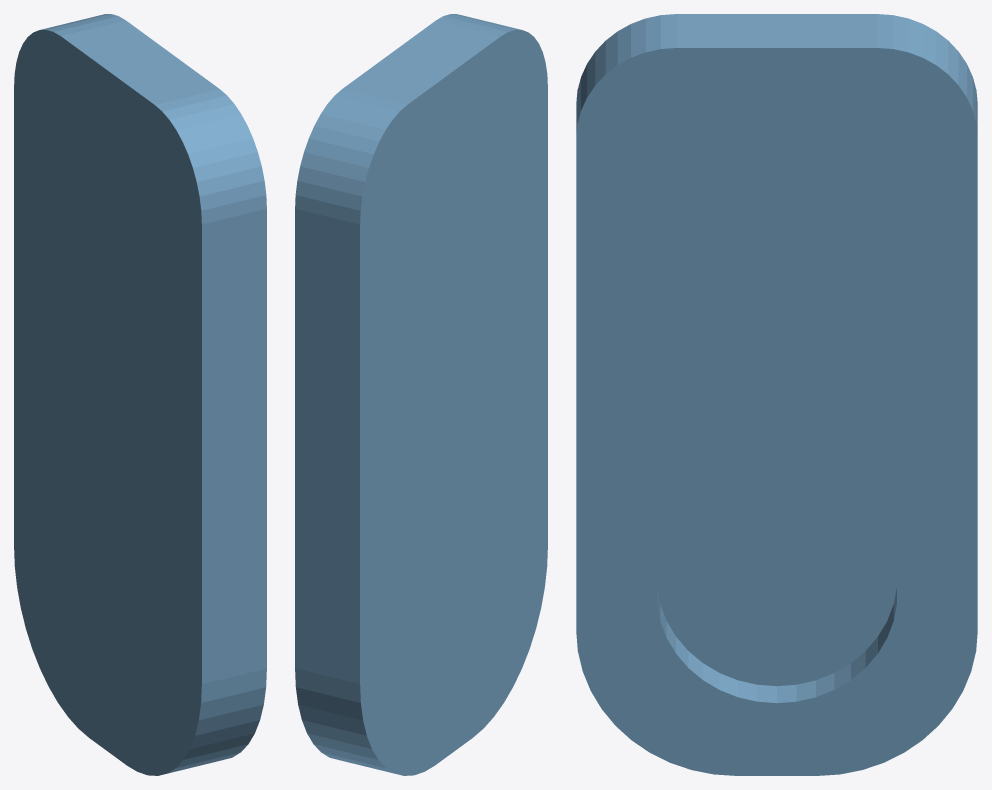
The model's file is shoulder_rev01.dae.
3 views of the same model, side by side, from view 1: azimuth 30°, elevation 25°; view 2: azimuth 150°, elevation 25°; view 3: azimuth 270°, elevation 25° (orthographic). The views are drawn at different scales.
Visible parts, largest first — view 1: Handle Support 2; view 2: Handle Support 2; view 3: Handle Support 2.
Boxes of the visible parts, x1=… form: Handle Support 2: x1=14, y1=14, x2=266, y2=775; Handle Support 2: x1=295, y1=14, x2=547, y2=775; Handle Support 2: x1=576, y1=14, x2=977, y2=775.
Bounding box in the file's own units: 20 × 100 × 200.
